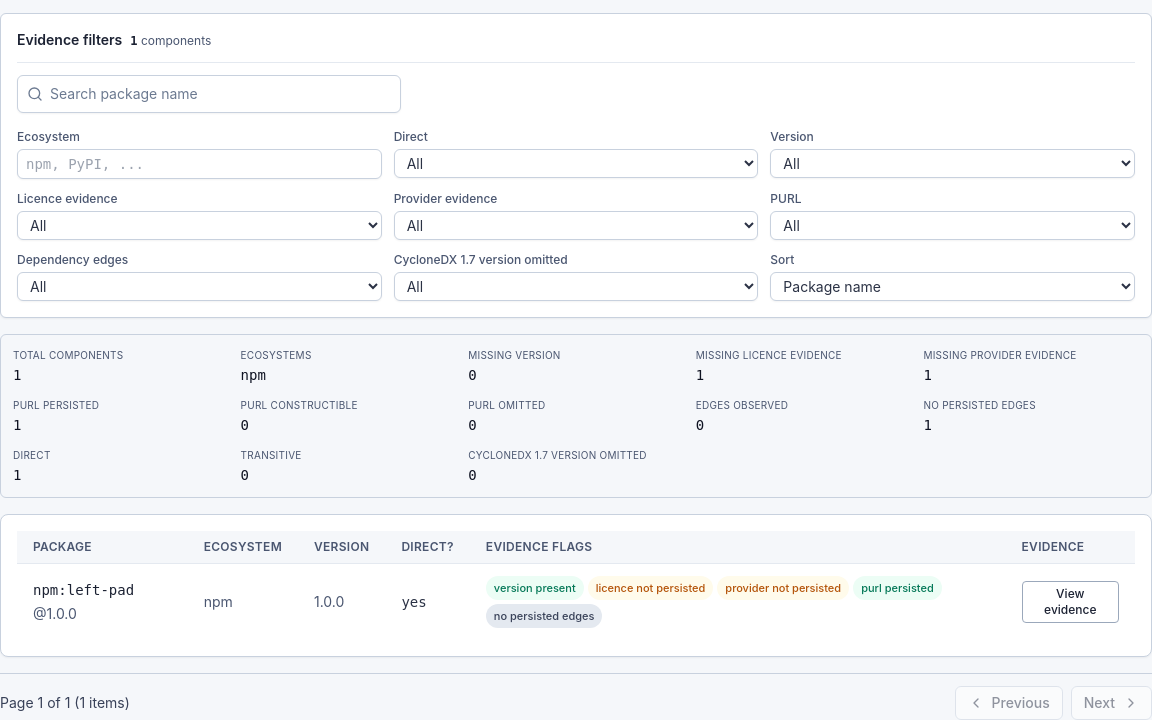
Test: v0.8 component evidence drilldown › opens the evidence drawer and renders every documented section
The image size is (1152, 720).
(page scrolled)
Step 1. Click the button with test id "component-evidence-button-1" → (1070, 602), box x1=1022 y1=581 x2=1119 y2=623
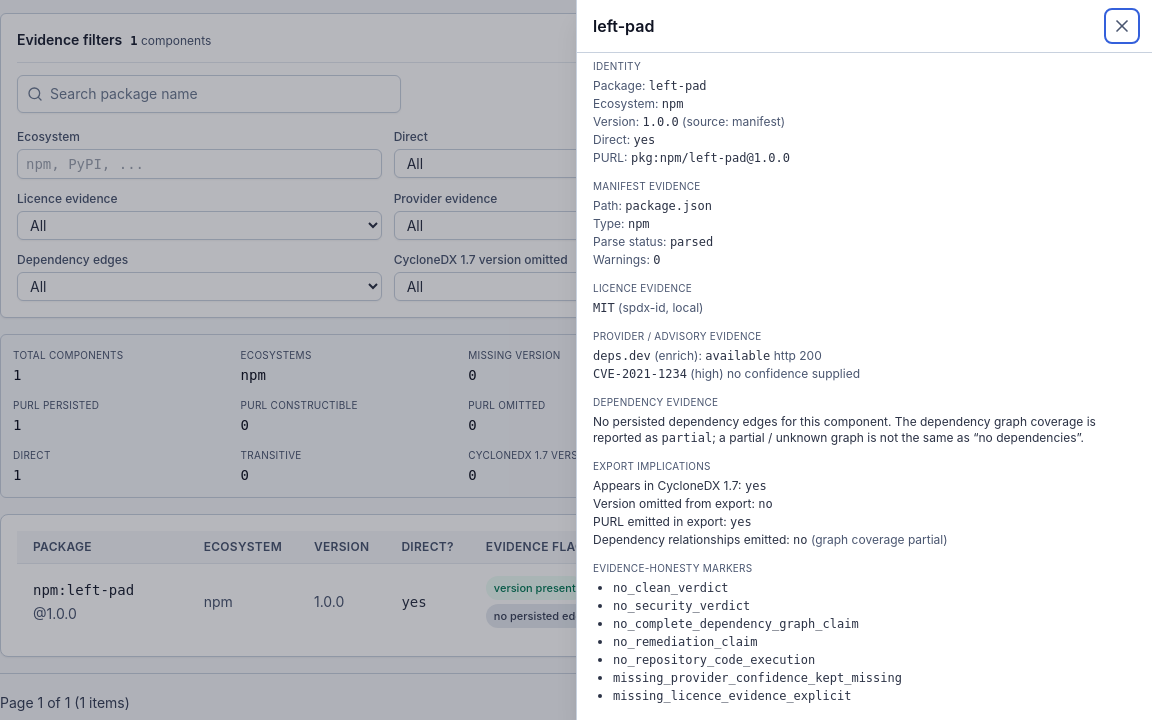
Result: the element with test id "component-evidence-panel" is shown at x1=593 y1=58 x2=1136 y2=704
Result: the text with test id "ce-package-name" reads "left-pad" at x1=649 y1=79 x2=707 y2=93
Result: the list with test id "ce-manifest" is shown at x1=593 y1=198 x2=713 y2=267
